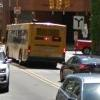Car: (54, 52, 100, 100)
